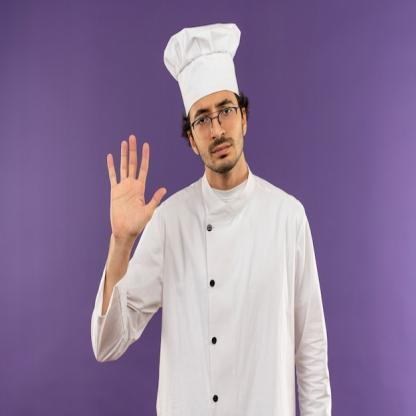stop: (106, 130, 170, 235)
